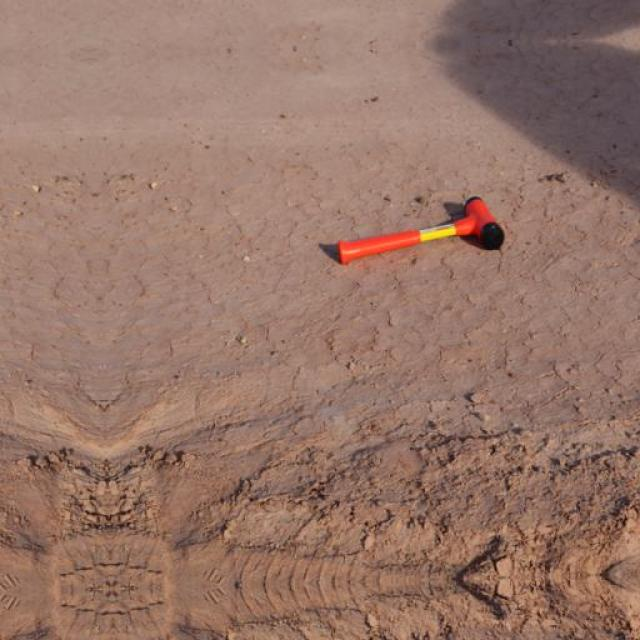mallet: (335, 194, 504, 265)
